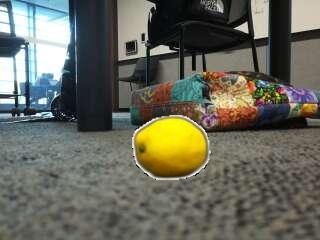lemon: (135, 117, 207, 177)
